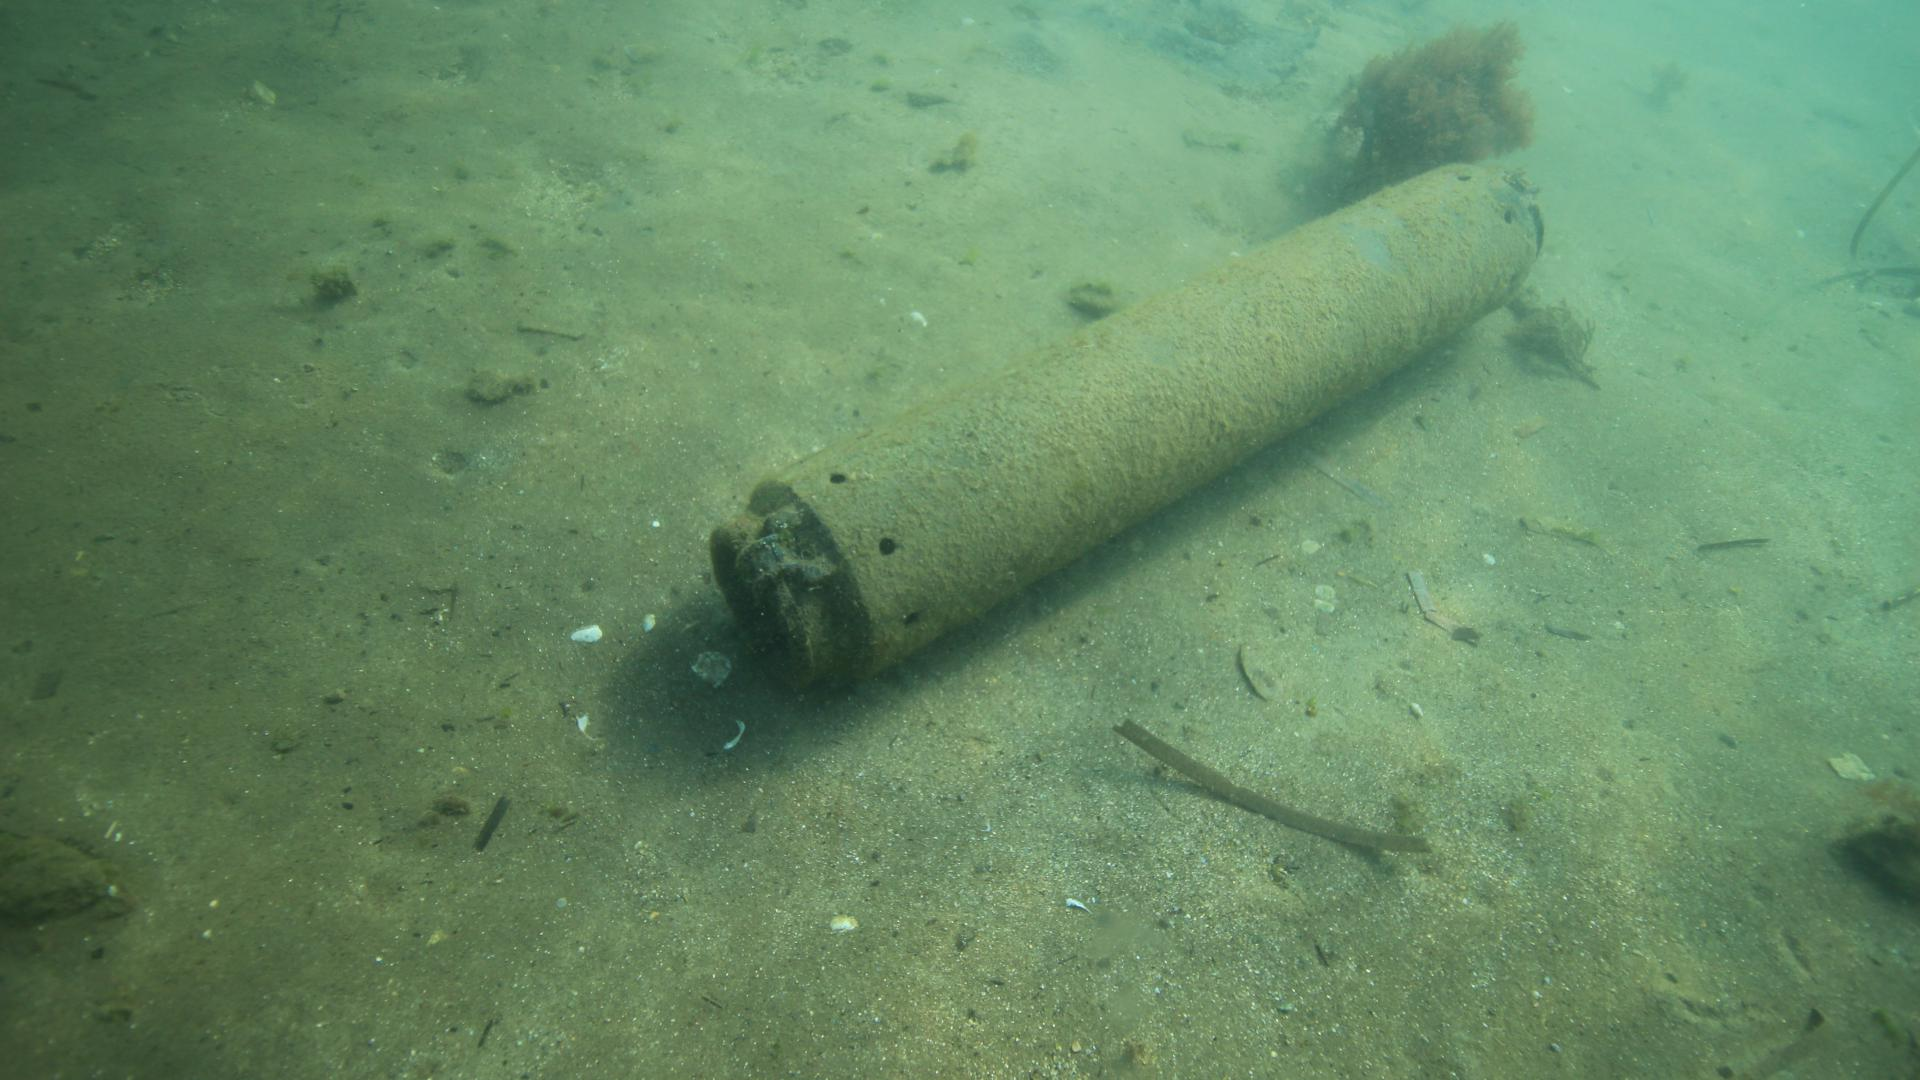eel fish trap: (709, 157, 1544, 680)
